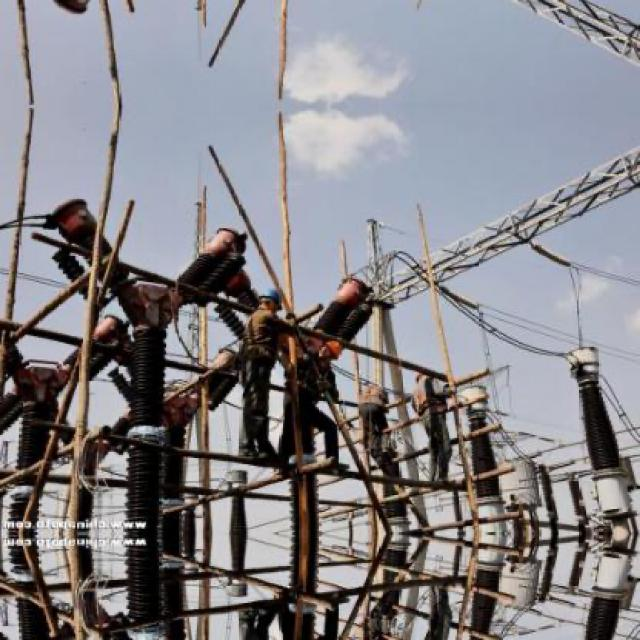helmet: (256, 287, 284, 316), (317, 338, 346, 359)
